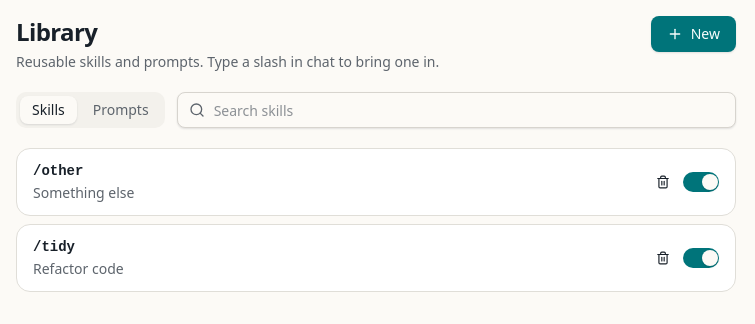
Scenario: skills tab › filters by keyword and reports no matches (scenario 33)
Expected: the text "/tidy" is shown, [33, 237, 75, 257]
Step 1. Type "REFACTOR" into the field with placeholder "Search skills" → (456, 110), box [177, 92, 736, 128]
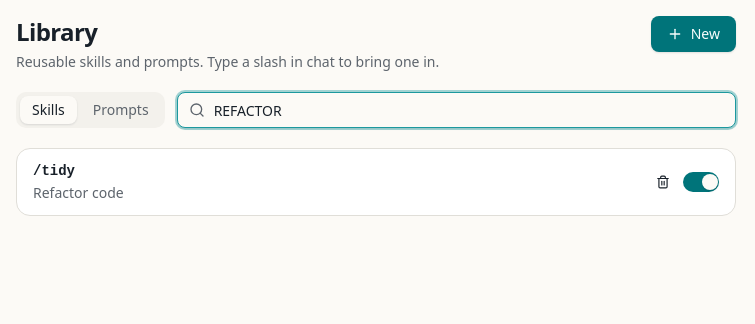
Expected: the text "/tidy" is shown, [33, 161, 75, 181]
Expected: the button "/other" is gone
Step 2. Replace the text in the field with placeholder "Search skills" with "zzz" → (456, 110), box [177, 92, 736, 128]
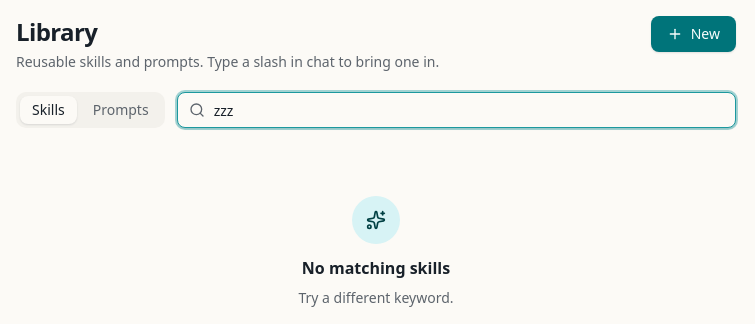
Expected: the heading "No matching skills" is shown, [302, 256, 450, 280]
